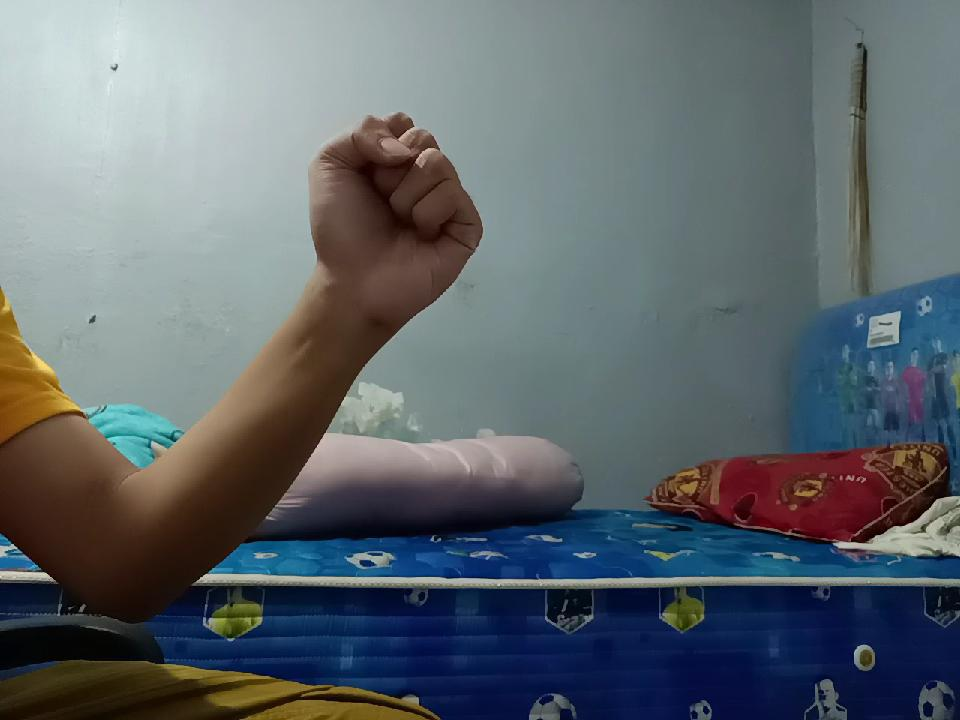rock: (308, 96, 484, 338)
